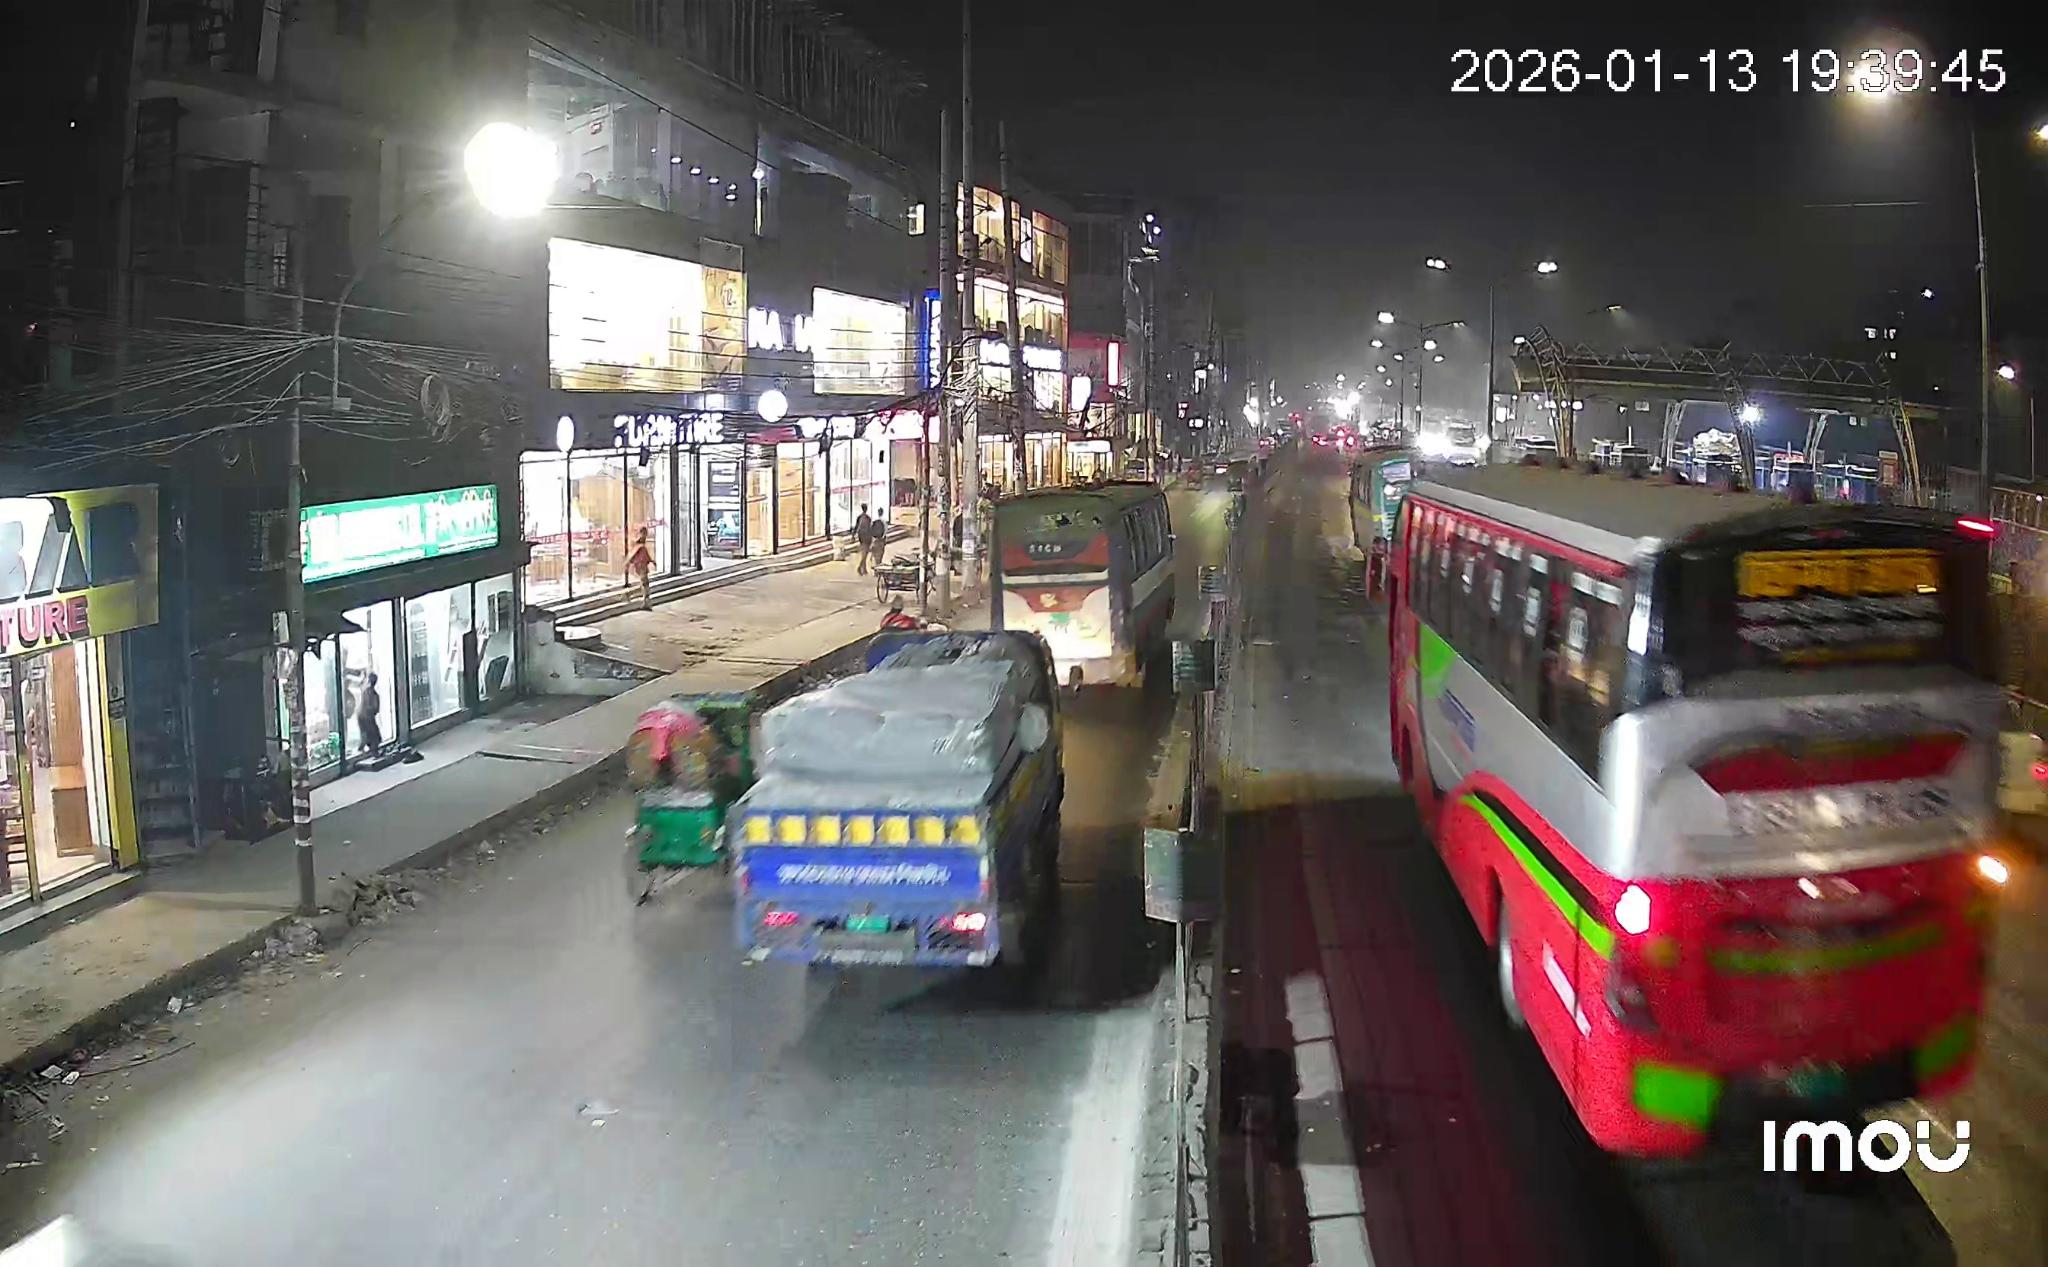Bus: (1387, 470, 1997, 1159), (990, 481, 1179, 689)
Cycle Rickshaw: (626, 692, 764, 904)
Truck: (723, 631, 1065, 971)
